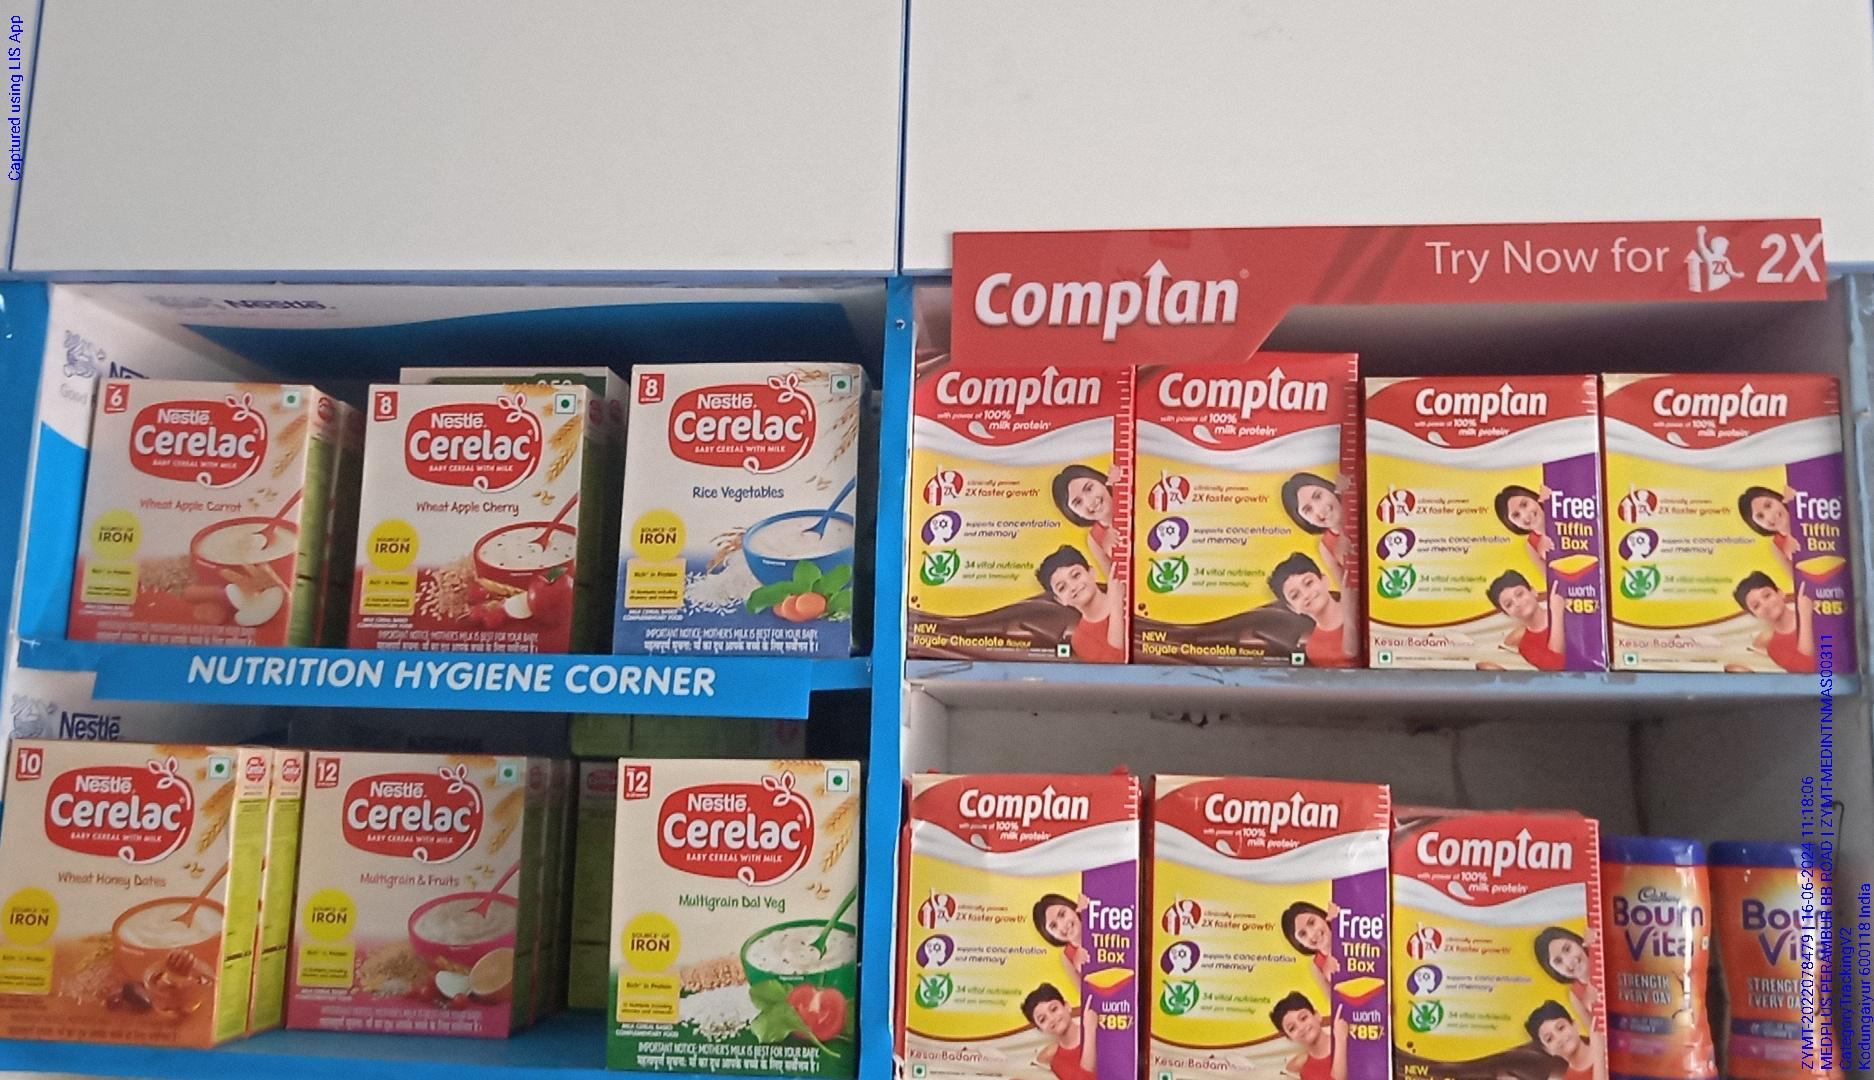BOURN_VITA_500_G_JAR: (1721, 846, 1841, 1080), (1611, 835, 1714, 1080)
